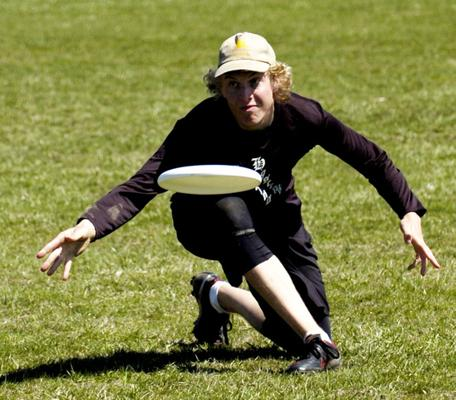person: (36, 32, 443, 374)
